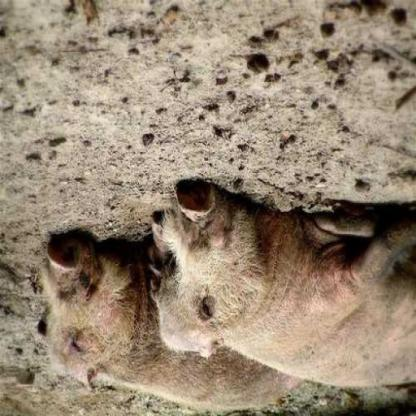boar: (147, 190, 415, 384), (34, 252, 307, 399)
